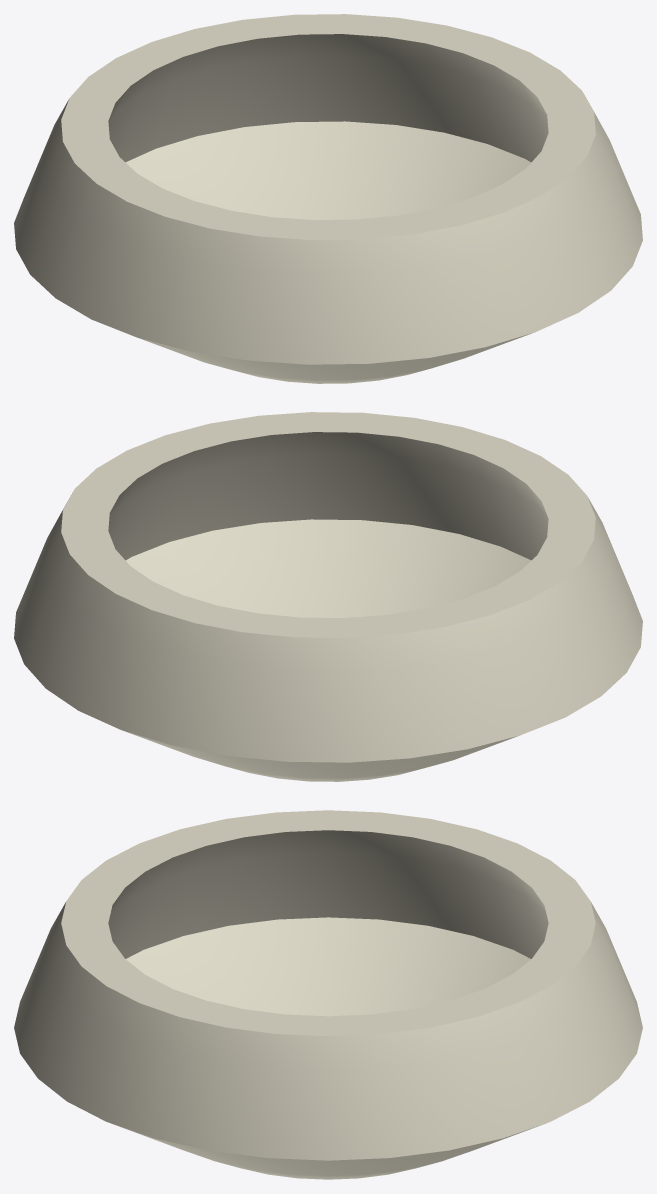
The model's file is adventurers-tavern-and-guild-hall-serving-bowl-1793836c__24717.glb.
The picture shows the model from 3 angles, top to bottom: view 1: azimuth 30°, elevation 25°; view 2: azimuth 150°, elevation 25°; view 3: azimuth 270°, elevation 25°; orthographic projection.
Parts seen in each view (by area): view 1: serving-bowl; view 2: serving-bowl; view 3: serving-bowl.
Boxes of the visible parts, x1,y1,x2,y2 form: serving-bowl: [14, 14, 642, 383]; serving-bowl: [14, 412, 642, 781]; serving-bowl: [14, 810, 642, 1179].
Size of the model in its own units: 0.48 by 0.16 by 0.48.
